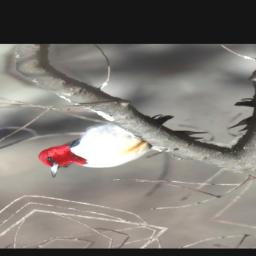Woodpecker: (23, 104, 224, 181)
